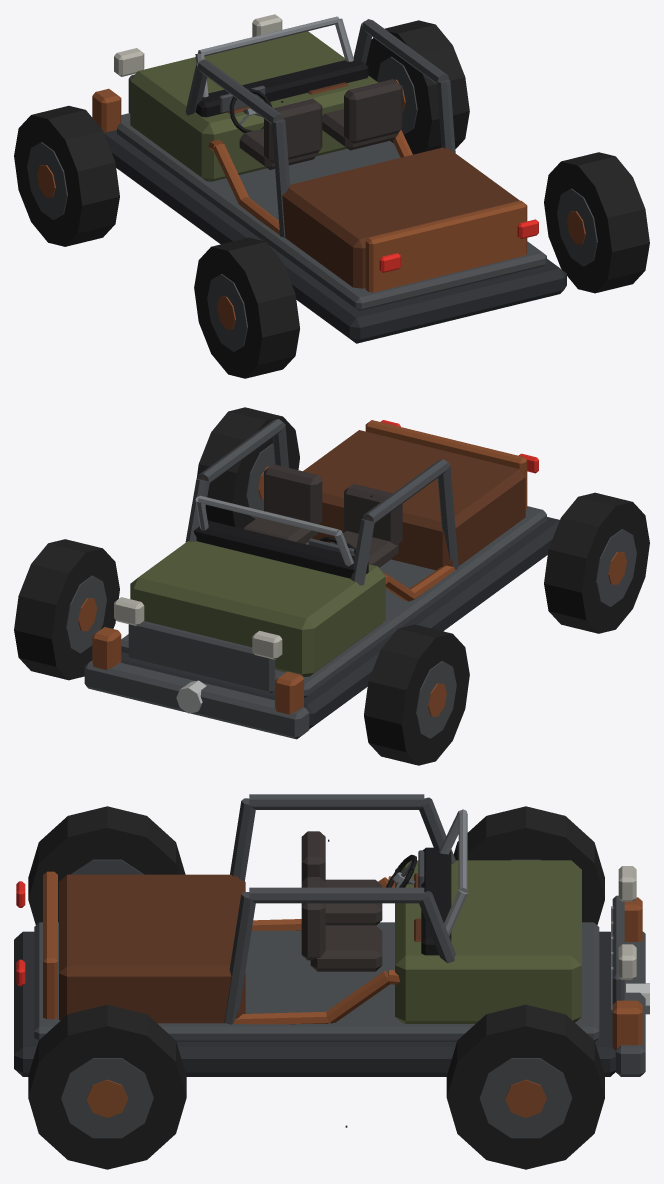
Rendered from piece_scout_buggy.fbx.
3 renders of one model, top to bottom at view 1: azimuth 30°, elevation 25°; view 2: azimuth 150°, elevation 25°; view 3: azimuth 270°, elevation 25°, orthographic. The views are drawn at different scales.
Visible parts, largest first — view 1: piece_scout_buggy, Wheel_RL, Wheel_FL, Wheel_RR, Wheel_FR; view 2: piece_scout_buggy, Wheel_FL, Wheel_RL, Wheel_FR, Wheel_RR; view 3: piece_scout_buggy, Wheel_FR, Wheel_RR, Wheel_RL, Wheel_FL.
Boxes of the visible parts, x1,y1,x2,y2 form: piece_scout_buggy: [92, 14, 566, 343]; Wheel_RL: [194, 237, 299, 378]; Wheel_FL: [14, 105, 119, 246]; Wheel_RR: [544, 152, 649, 293]; Wheel_FR: [366, 20, 469, 154]; piece_scout_buggy: [84, 418, 559, 739]; Wheel_FL: [364, 624, 469, 765]; Wheel_RL: [544, 492, 649, 633]; Wheel_FR: [14, 539, 119, 680]; Wheel_RR: [196, 407, 299, 528]; piece_scout_buggy: [14, 794, 649, 1076]; Wheel_FR: [446, 1004, 604, 1169]; Wheel_RR: [28, 1004, 186, 1169]; Wheel_RL: [28, 806, 185, 924]; Wheel_FL: [453, 806, 604, 925].
Bounding box in the file's own units: 3.52 × 1.67 × 4.26.
